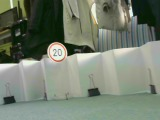speed_20: (46, 42, 67, 63)
